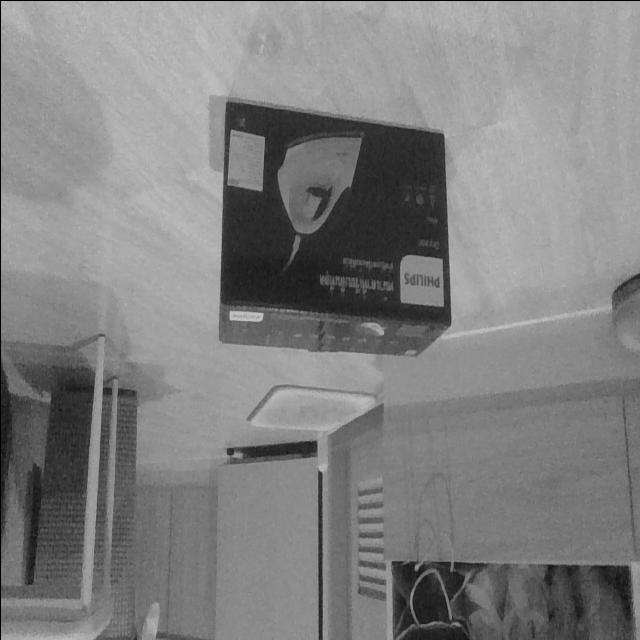IRON: (215, 95, 453, 361)
